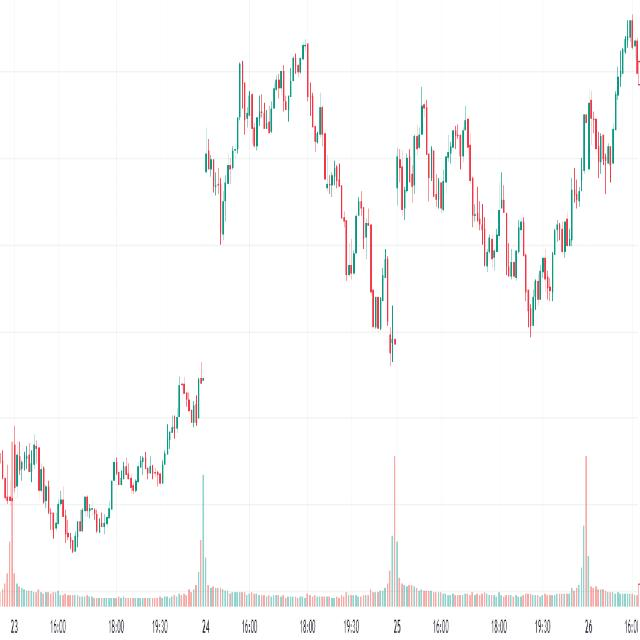Channel-down: (283, 4, 416, 414)
Rounding-Bottom: (464, 147, 586, 339), (35, 451, 116, 561)
